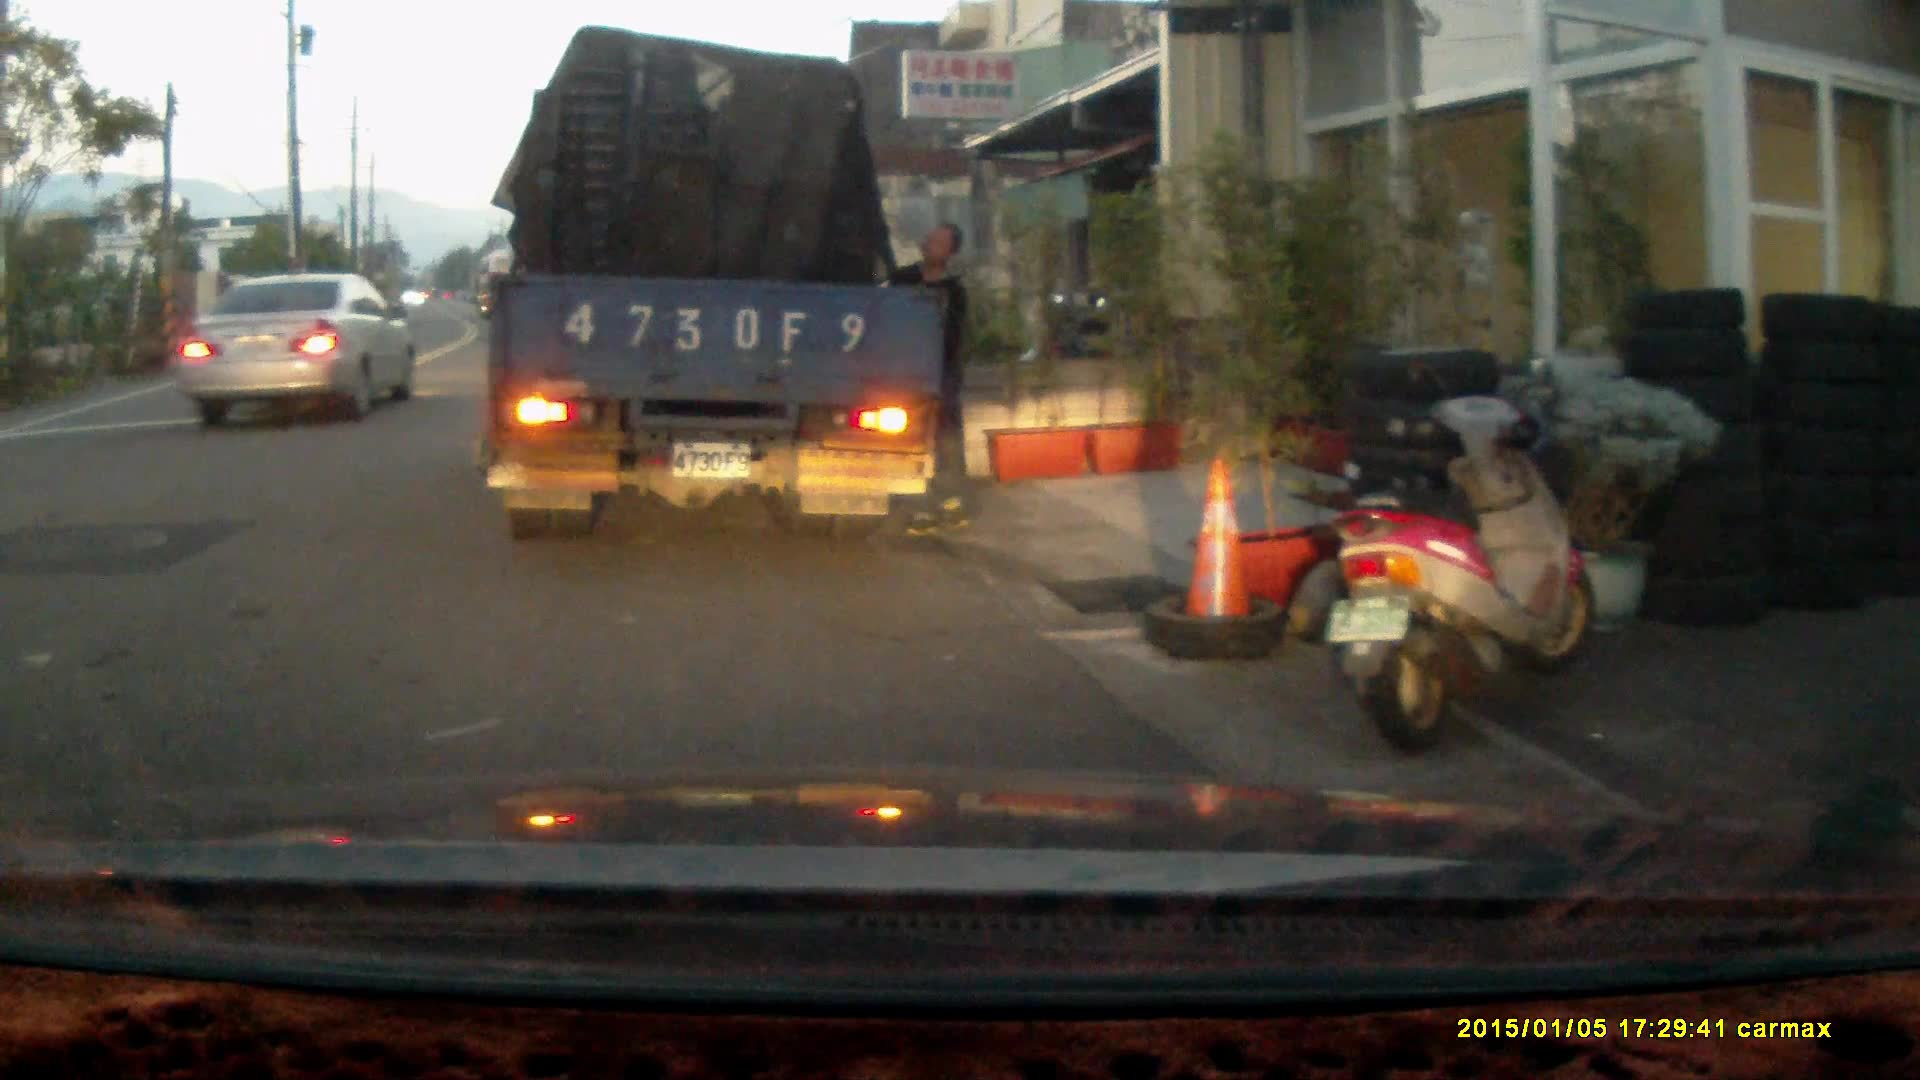pedestrian: (887, 219, 976, 537)
vehicle: (496, 32, 959, 539), (185, 271, 423, 425)
